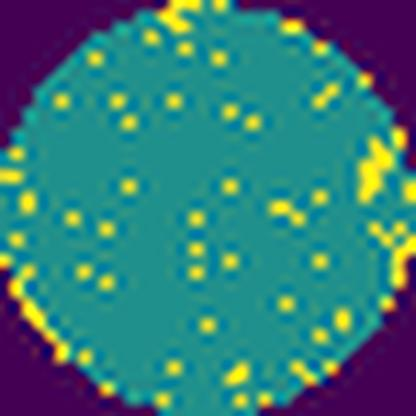Edge-Loc: (358, 135, 394, 199)
